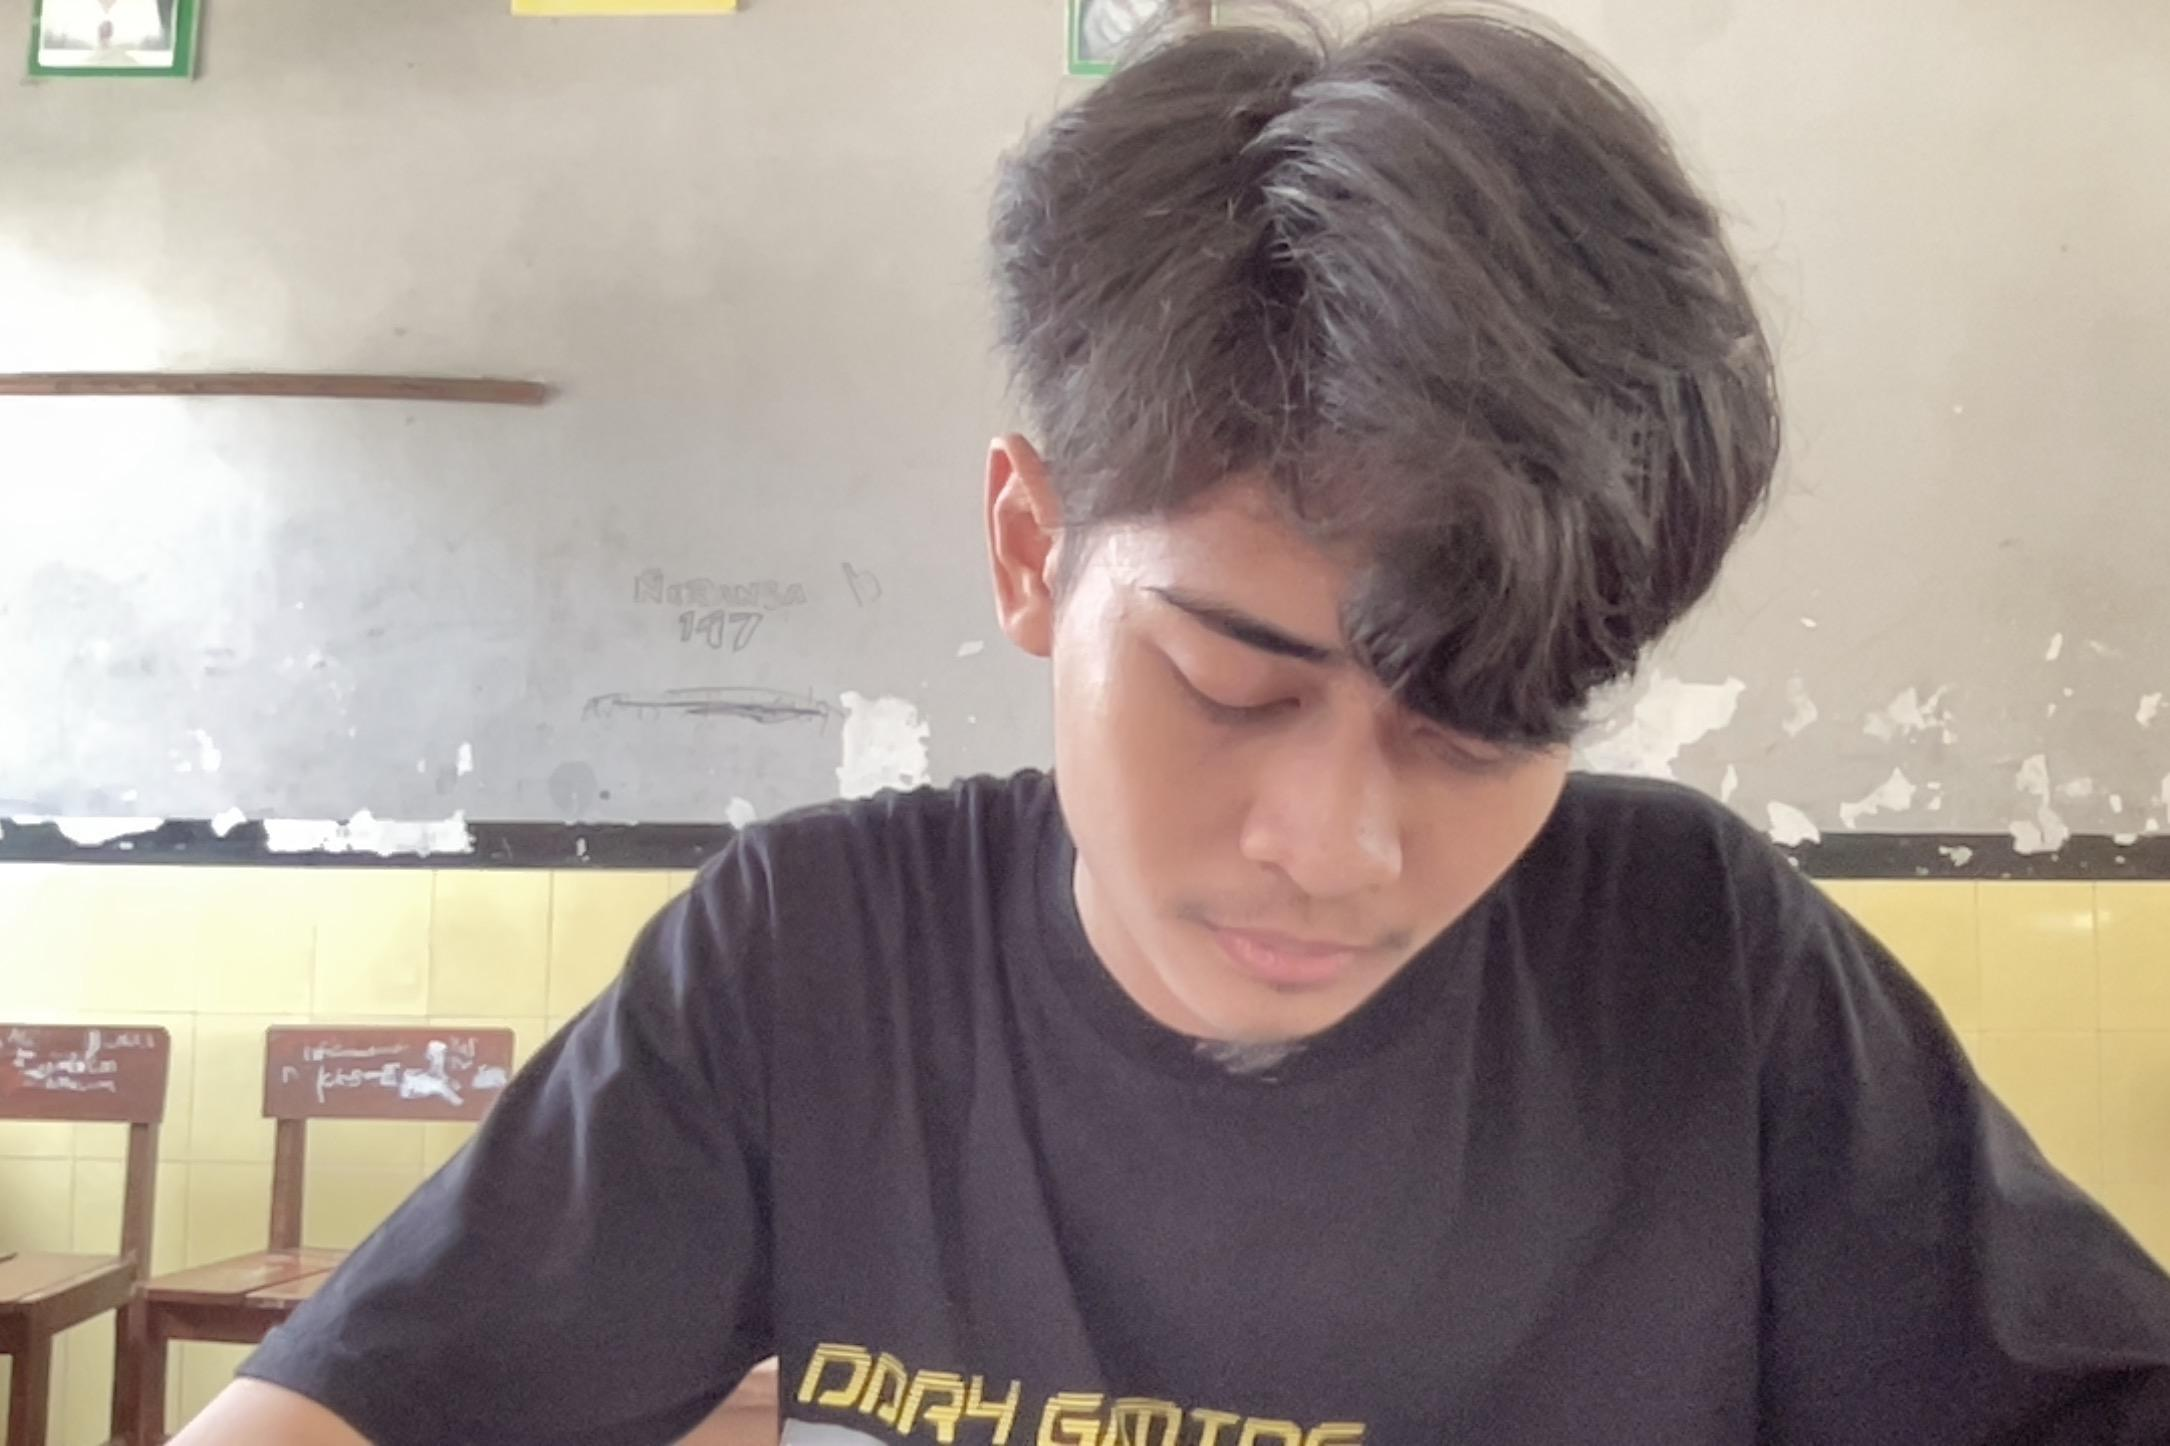good: (3, 3, 2170, 1446)
